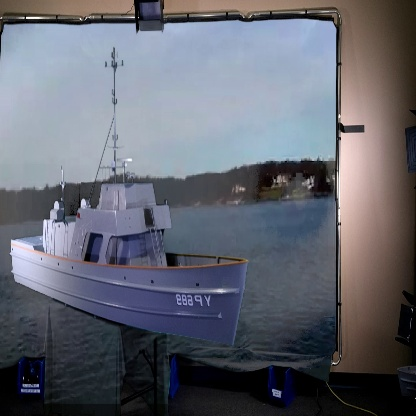YP689: (8, 51, 250, 350)
